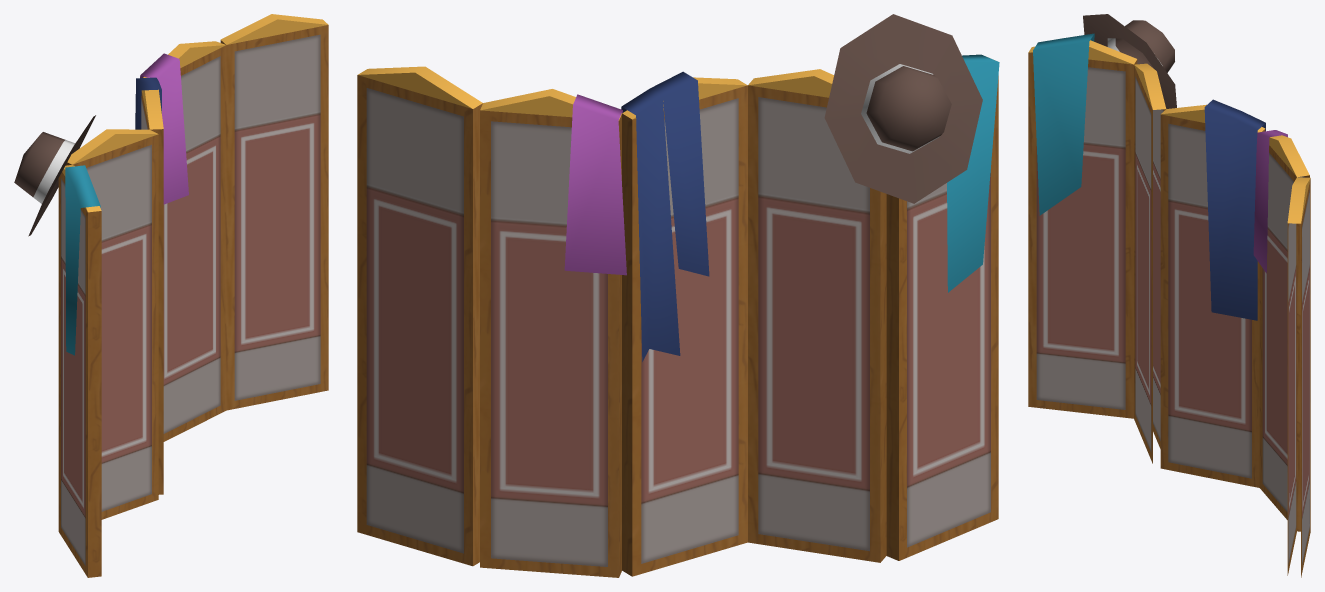
The model's file is interior_C_010.fbx.
3 views of the same model, side by side, from view 1: azimuth 30°, elevation 25°; view 2: azimuth 150°, elevation 25°; view 3: azimuth 270°, elevation 25° (orthographic). The views are drawn at different scales.
Visible parts, largest first — view 1: interior_C_010; view 2: interior_C_010; view 3: interior_C_010.
Part boxes in pixels (bbox=[...]): interior_C_010: bbox=[14, 14, 328, 577]; interior_C_010: bbox=[357, 14, 999, 577]; interior_C_010: bbox=[1028, 14, 1310, 577].
Size of the model in its own units: 171 by 176 by 110.
Materials: 8 (2 with a texture image).
